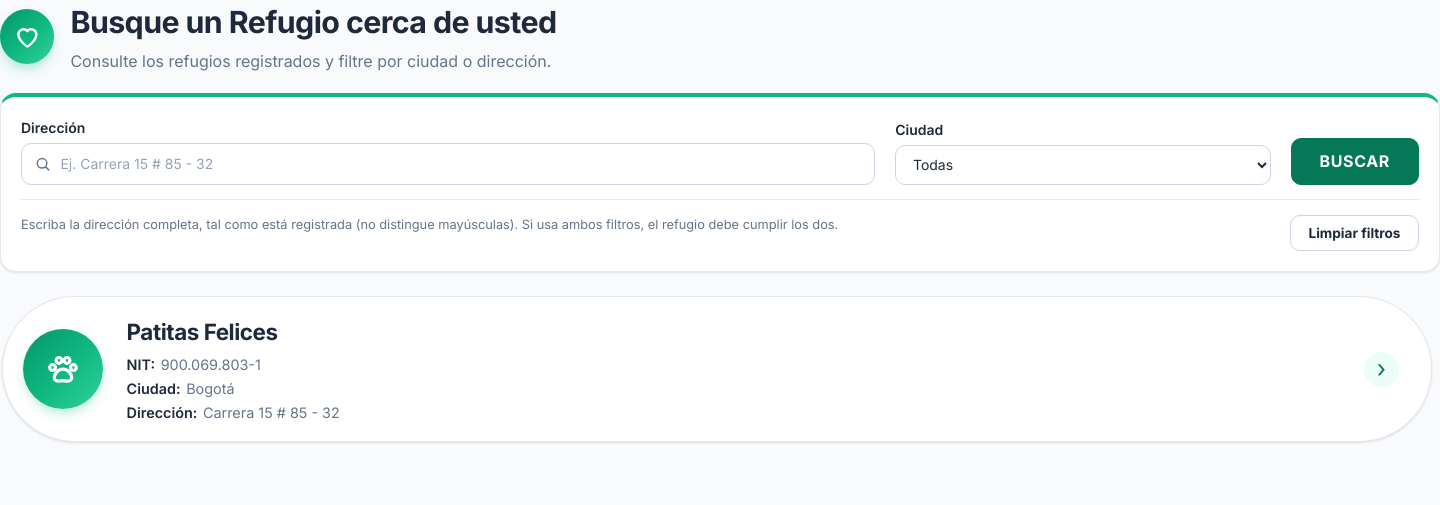
Test: ShelterListPage › tells the user when the filters match no shelter and offers to clear them
The image size is (1440, 505).
Type "Calle 1" into the field labelled "Dirección" at [448, 164], box [21,143,875,185]
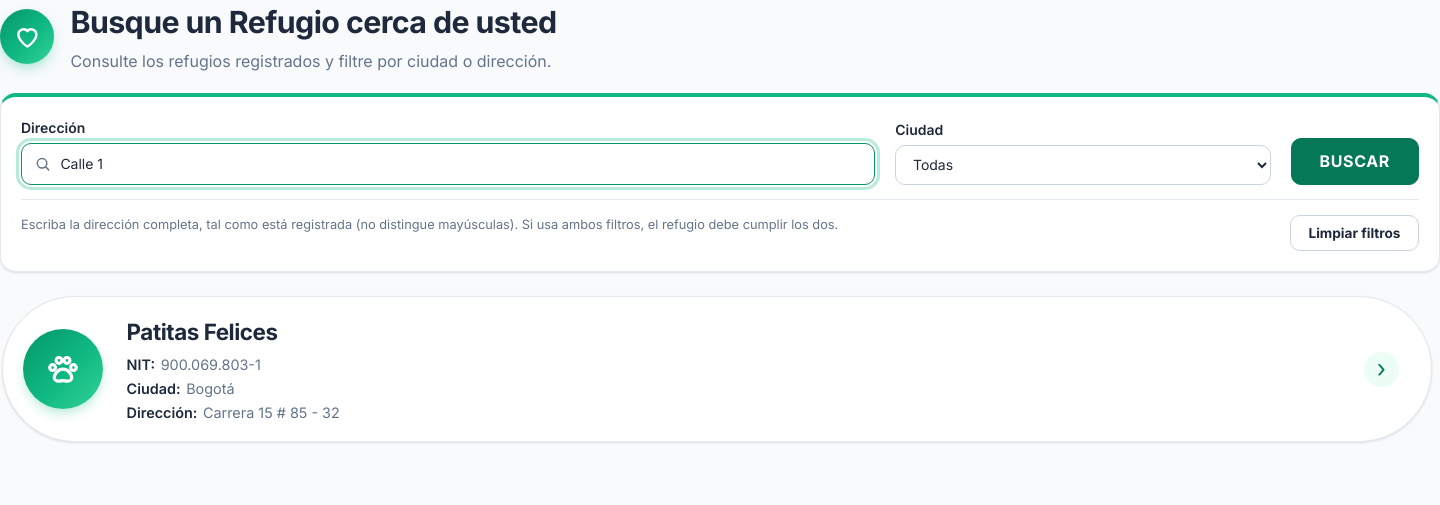
Click the button "Buscar" at [1355, 161], box [1290,138,1419,185]
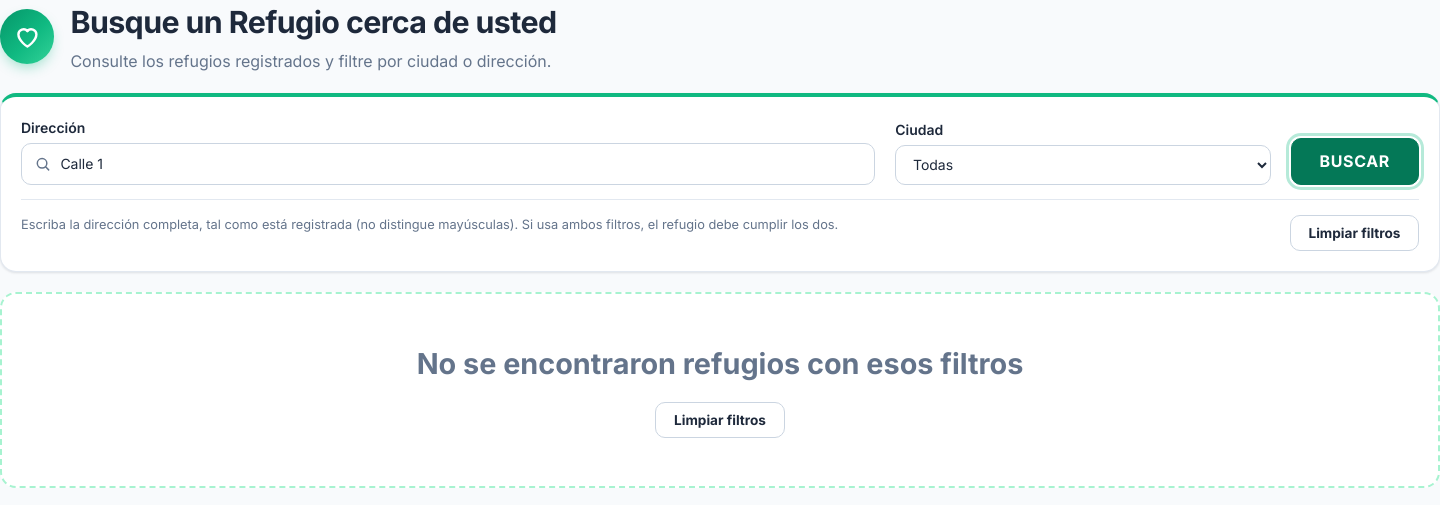
Expected: the heading "No se encontraron refugios con esos filtros" is shown, [417,342,1023,386]
Expected: the 2nd button "Limpiar filtros" is shown, [656,402,785,438]
